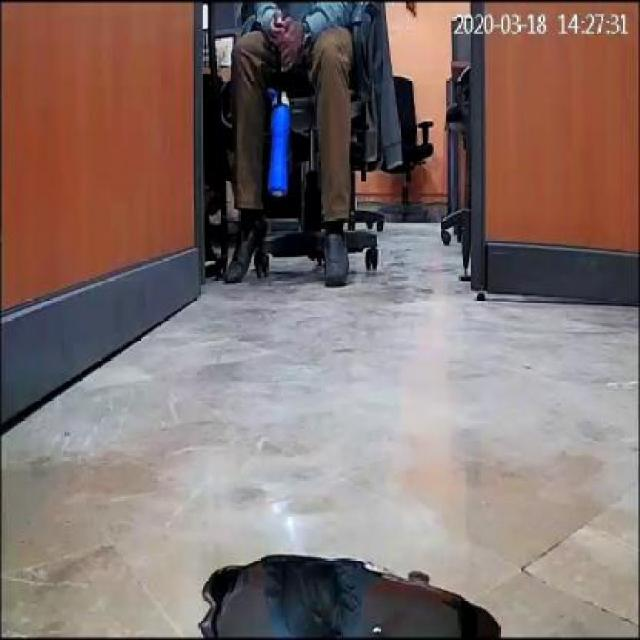spill: (199, 558, 499, 637)
